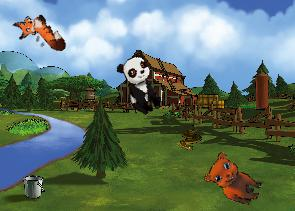bear: (200, 149, 269, 208)
fox: (9, 4, 69, 66)
panda: (113, 51, 167, 118)
